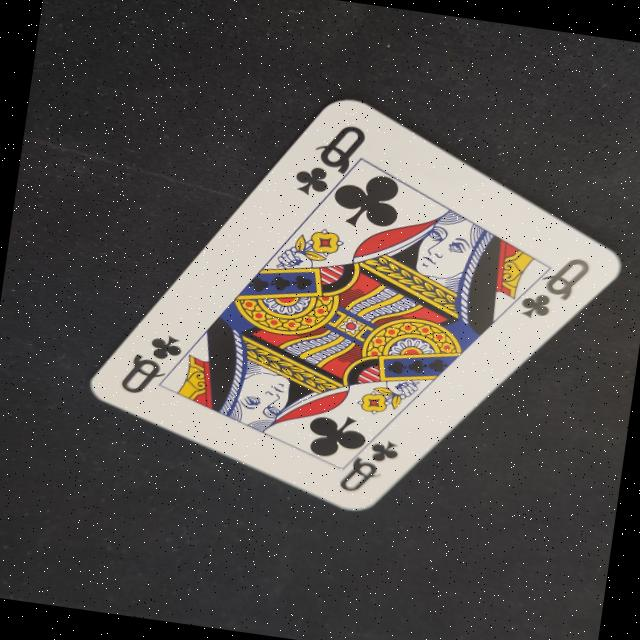Qc: (281, 111, 378, 208), (508, 238, 602, 329), (105, 316, 194, 404), (328, 424, 407, 500)
